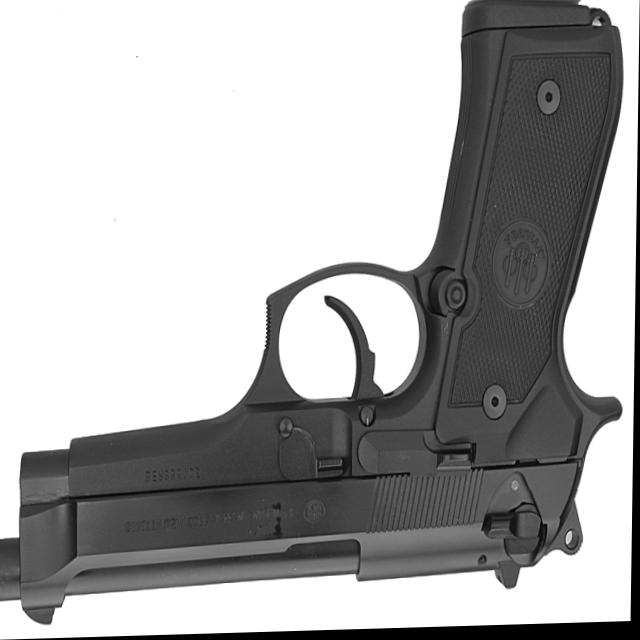handgun: (0, 2, 627, 630)
